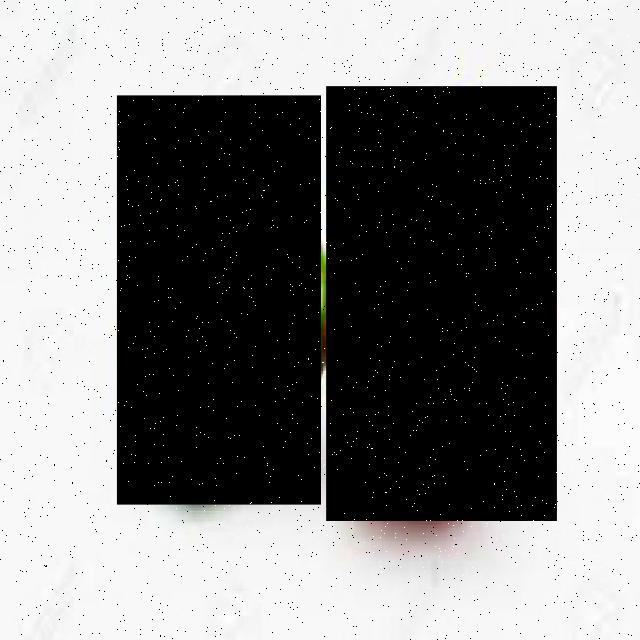Capsicum: (326, 87, 556, 521), (117, 96, 320, 504)
